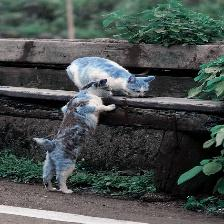kedo: (34, 58, 156, 193)
